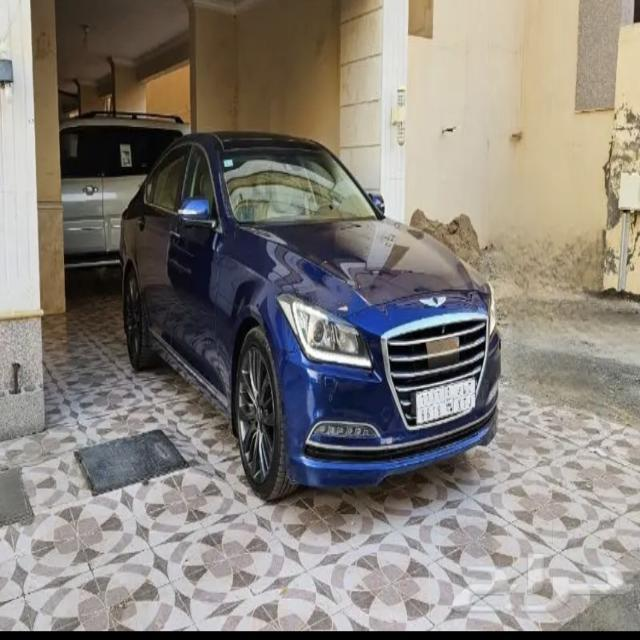license_plate: (413, 378, 480, 430)
